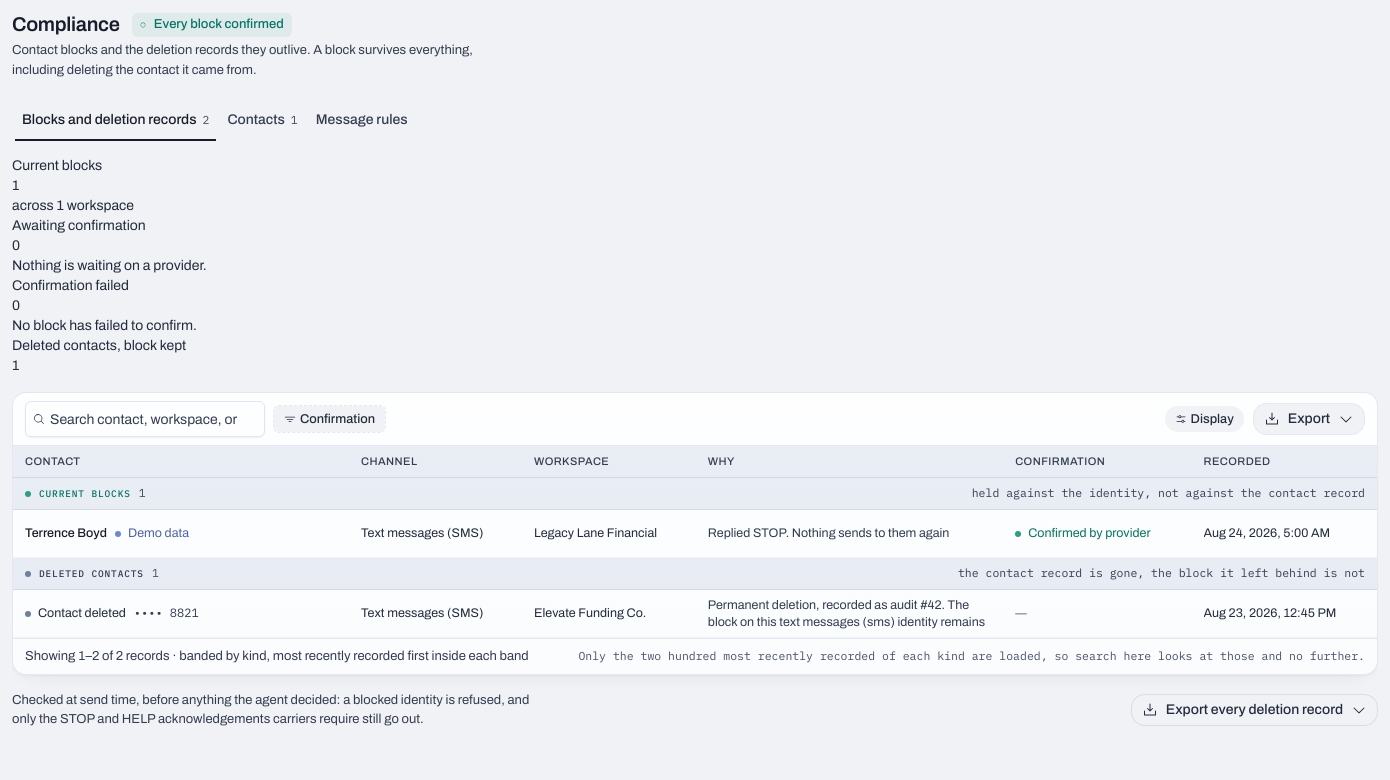
Scenario: AdminCompliance › renders blocks and deletion records as two bands of one table
Expected: the text "Current blocks" is shown, 39,488 -> 131,499
Expected: the text "Deleted contacts" is shown, 39,568 -> 144,579
Click the tab "Contacts 1": (263,120) 220,108 -> 305,132
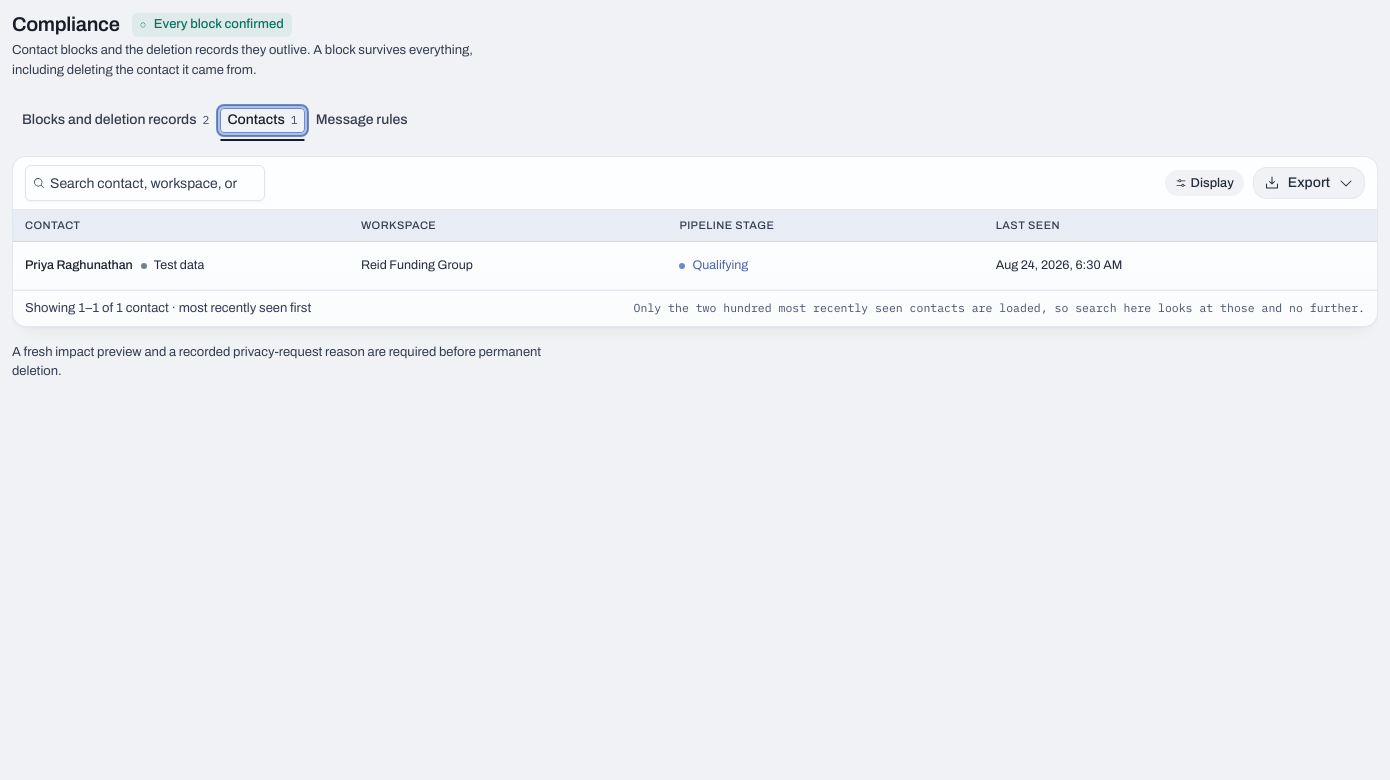
Now the text "Priya Raghunathan" is shown, box 25,257 -> 133,274
